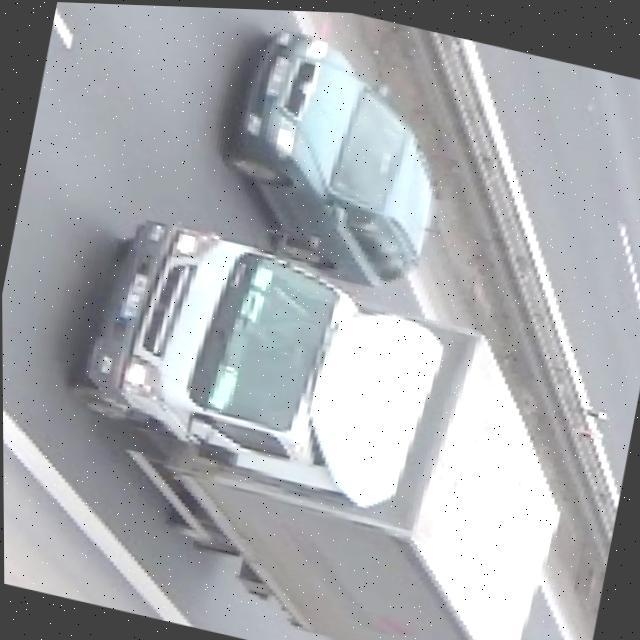truck: (34, 201, 598, 640)
